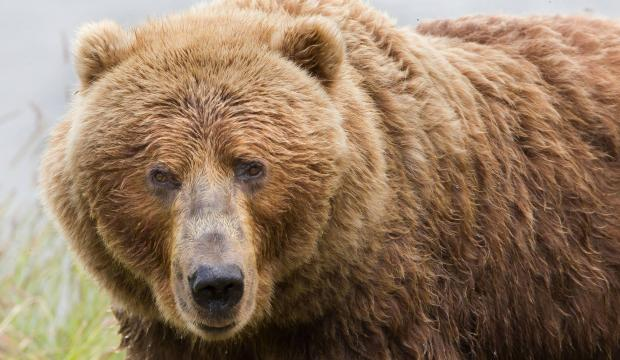bear: (37, 17, 352, 344)
